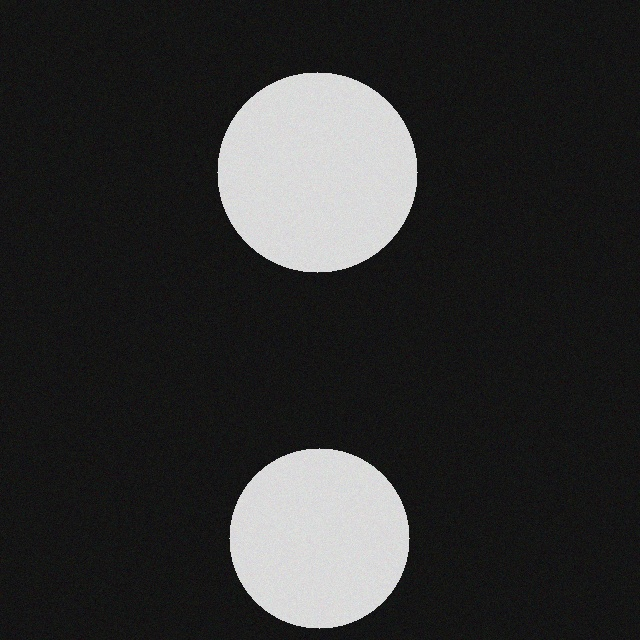circle: (227, 69, 427, 269), (239, 445, 419, 625)
